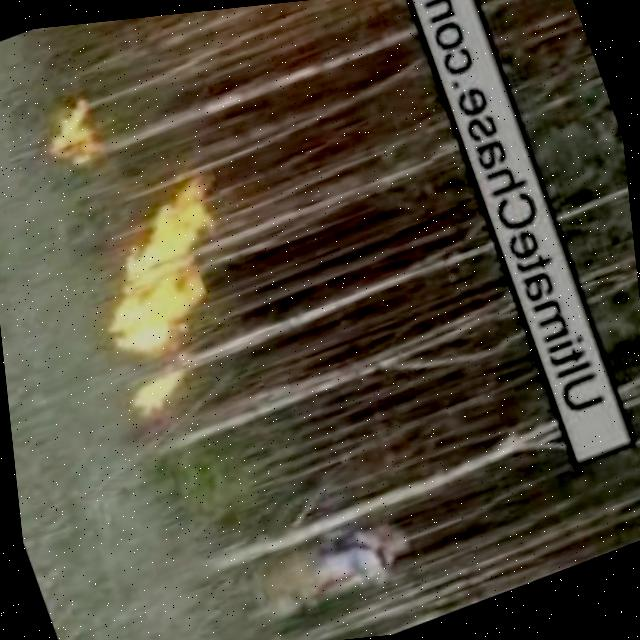fire: (61, 172, 262, 366), (103, 346, 204, 429), (25, 89, 103, 179)
